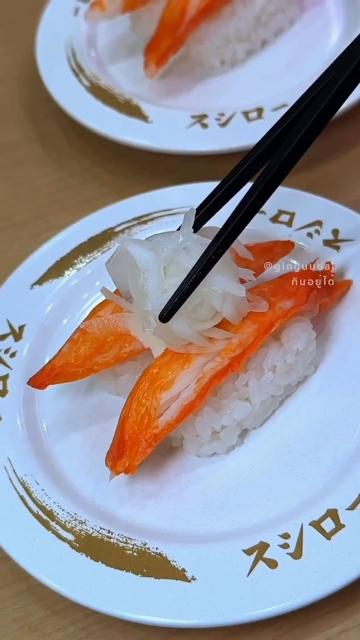janwhite: (0, 226, 360, 622), (46, 65, 360, 157)
